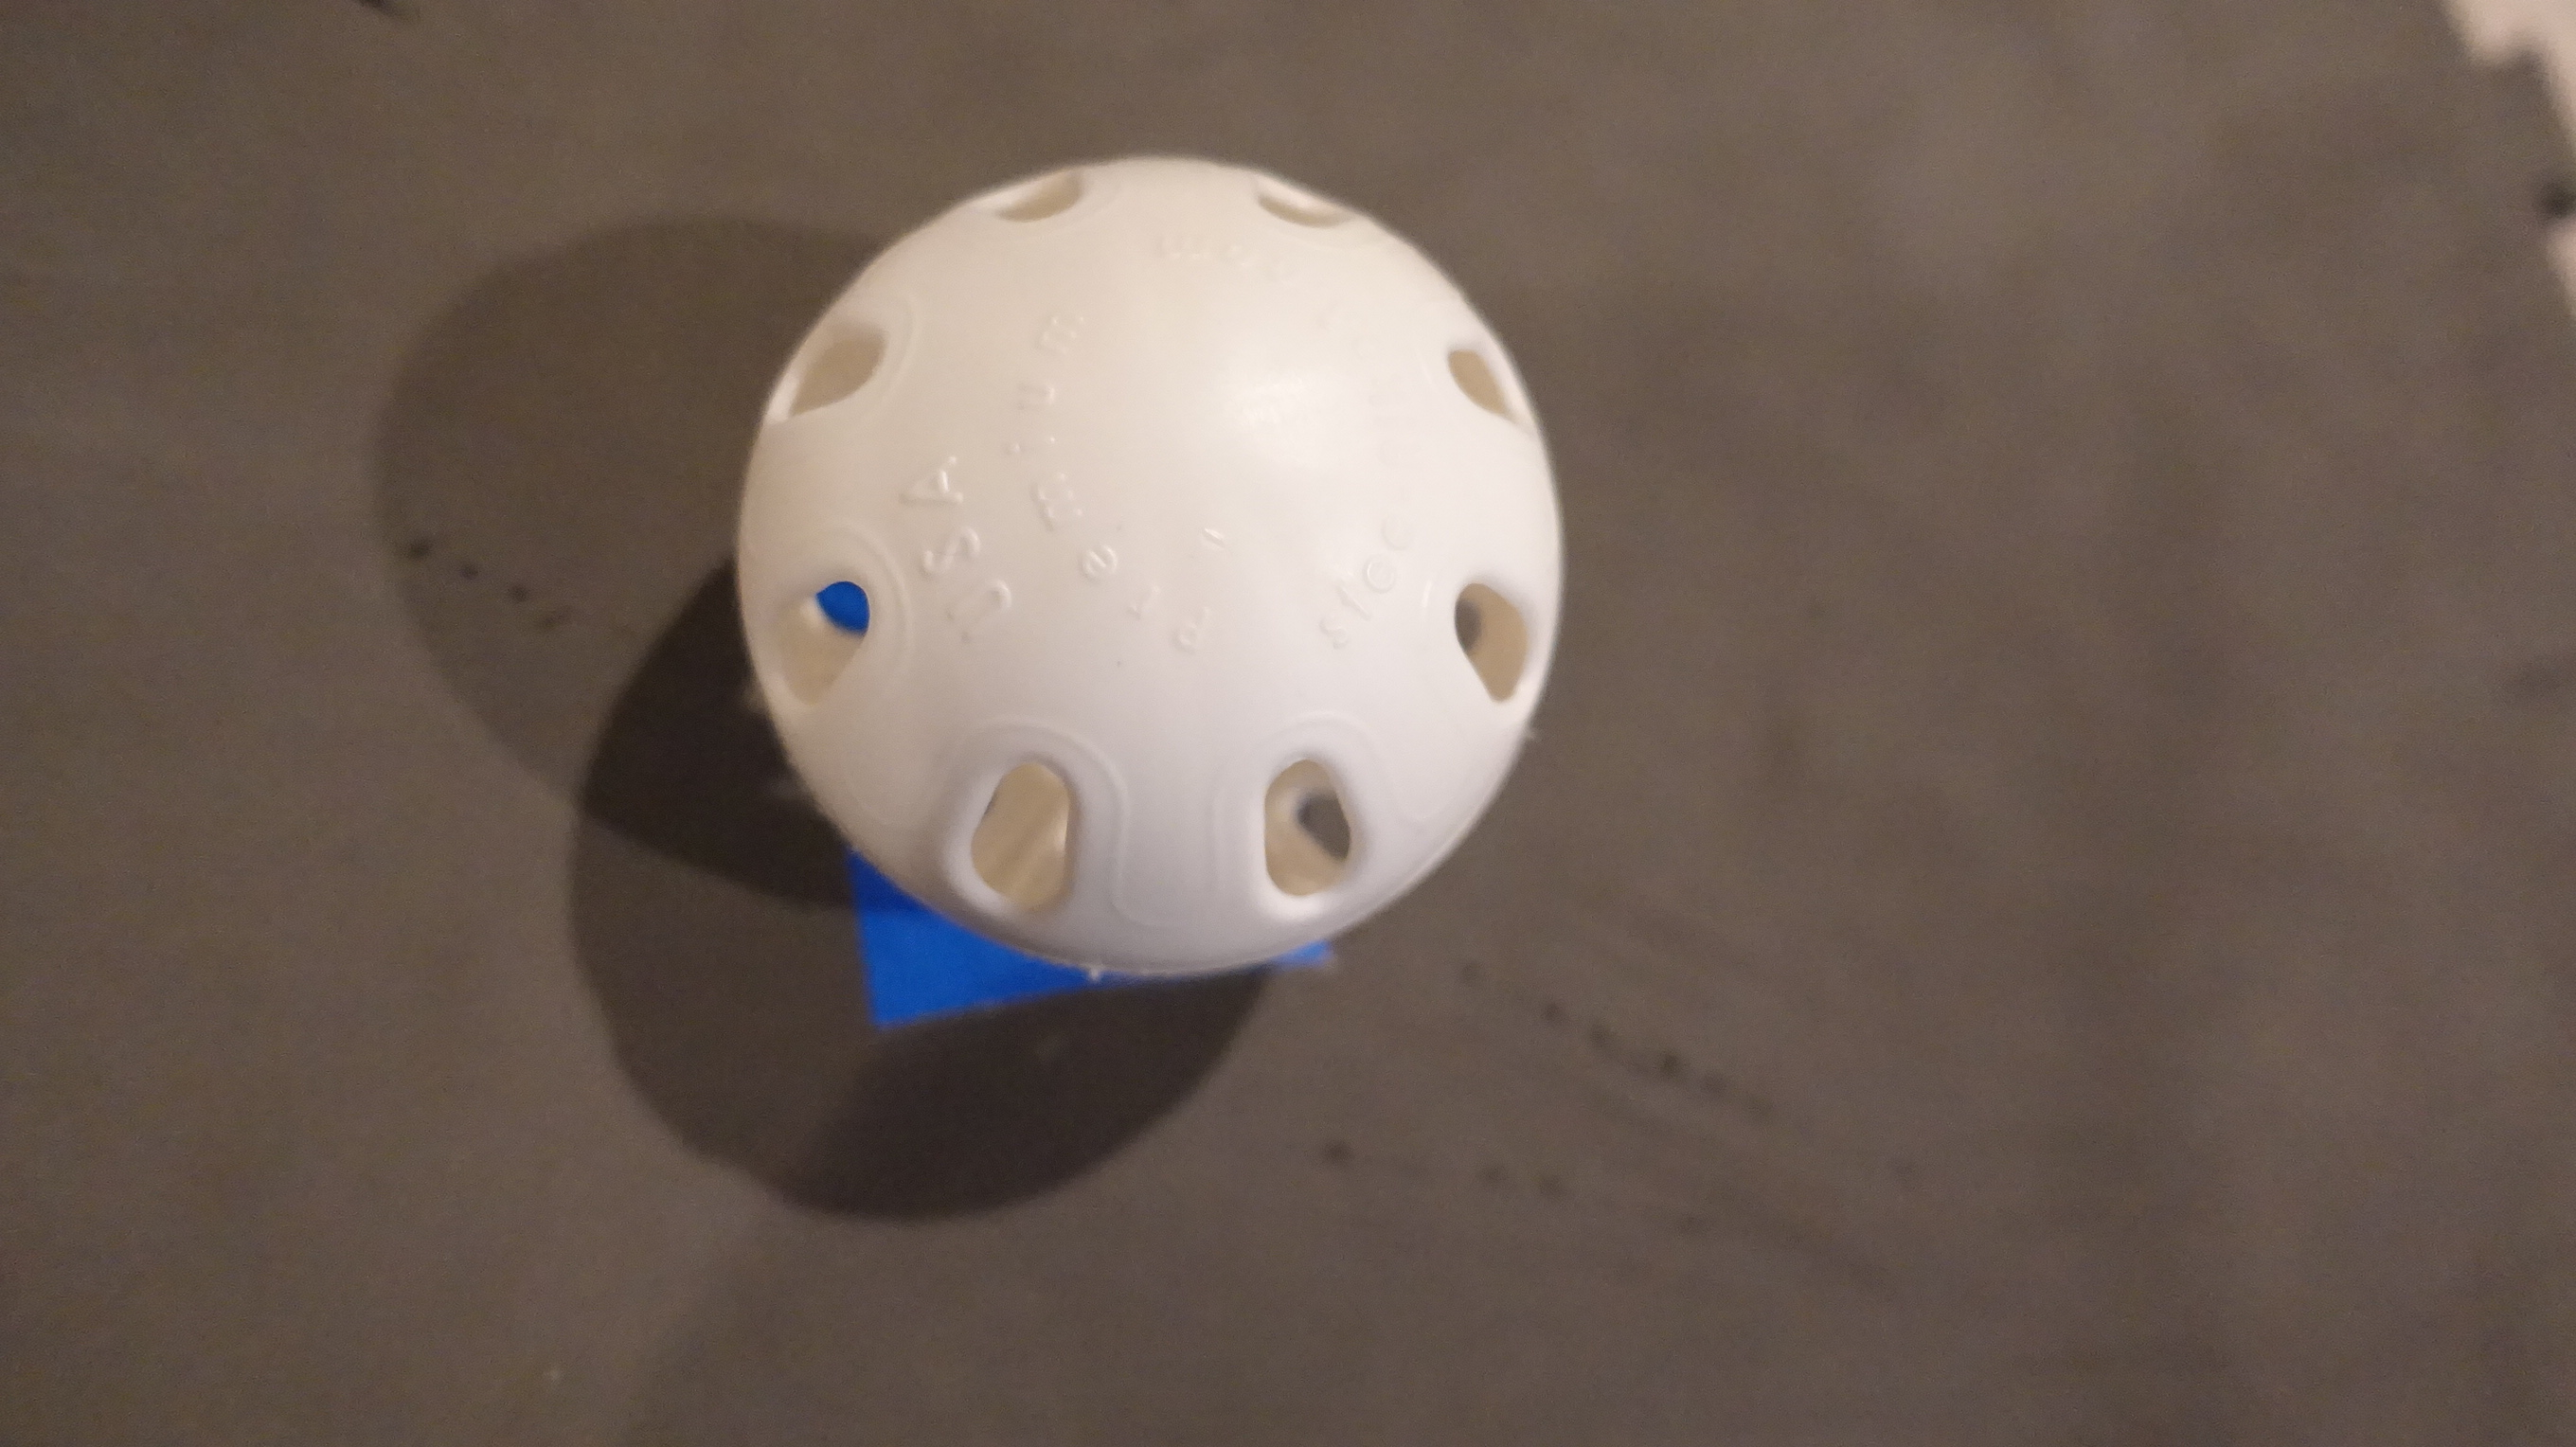silver: (734, 133, 1578, 996)
